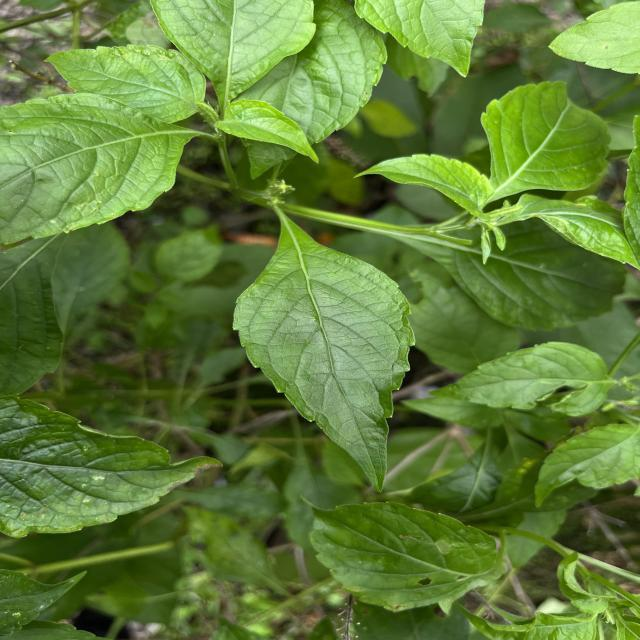Ocimum gratissimum: (226, 216, 422, 496), (0, 92, 219, 250), (0, 392, 232, 541), (151, 0, 320, 102), (41, 40, 210, 128), (353, 0, 488, 80)
